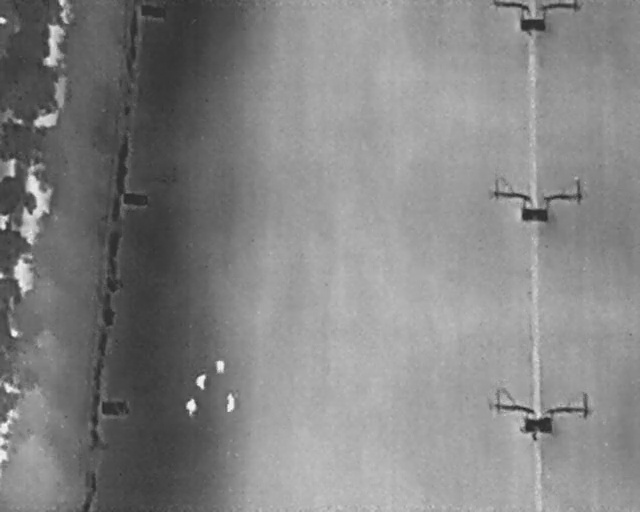Person: (185, 397, 197, 418), (225, 391, 236, 413), (195, 372, 207, 391), (215, 359, 226, 374)
